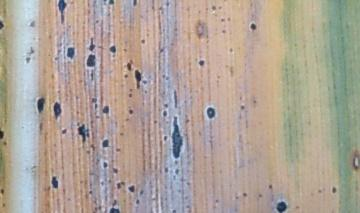tarspot: (169, 114, 185, 161), (53, 1, 71, 26), (76, 122, 89, 146), (203, 104, 219, 123), (132, 67, 143, 91), (34, 94, 47, 114), (84, 52, 98, 70), (64, 43, 77, 62), (273, 198, 288, 213), (107, 198, 122, 213), (171, 87, 180, 111), (48, 173, 61, 189), (53, 101, 62, 120), (126, 182, 138, 195), (114, 179, 126, 192), (247, 19, 258, 33), (87, 36, 96, 52), (125, 56, 134, 72), (328, 182, 339, 195), (100, 157, 110, 171), (101, 136, 110, 150), (125, 105, 136, 116), (1, 14, 7, 34), (88, 68, 96, 83), (24, 45, 36, 55), (108, 43, 118, 54), (160, 73, 171, 83), (102, 1, 119, 7), (101, 104, 111, 114), (197, 58, 206, 68), (161, 165, 170, 175), (111, 165, 120, 175), (89, 95, 99, 104), (161, 133, 169, 144), (60, 127, 69, 136), (132, 198, 142, 206), (24, 55, 32, 65), (28, 18, 36, 28), (1, 129, 6, 144), (131, 1, 140, 9), (174, 167, 183, 175), (225, 15, 233, 24), (161, 109, 168, 119), (209, 4, 217, 12), (227, 46, 234, 55), (238, 103, 245, 112), (162, 102, 171, 109), (139, 37, 146, 45), (316, 187, 324, 194), (158, 47, 166, 54), (251, 98, 257, 107), (127, 92, 134, 99), (255, 192, 263, 198), (151, 118, 159, 124), (219, 15, 225, 23), (267, 182, 273, 189), (1, 188, 7, 195), (141, 79, 148, 85), (114, 147, 121, 153), (118, 130, 125, 136), (242, 190, 247, 198), (123, 72, 129, 78), (217, 4, 222, 11), (171, 208, 177, 213), (221, 28, 226, 34)
